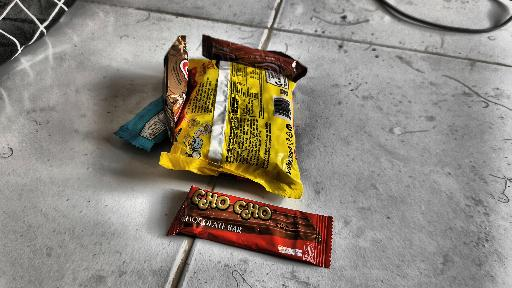chocho: (167, 175, 349, 269)
indomie: (176, 59, 309, 197)
